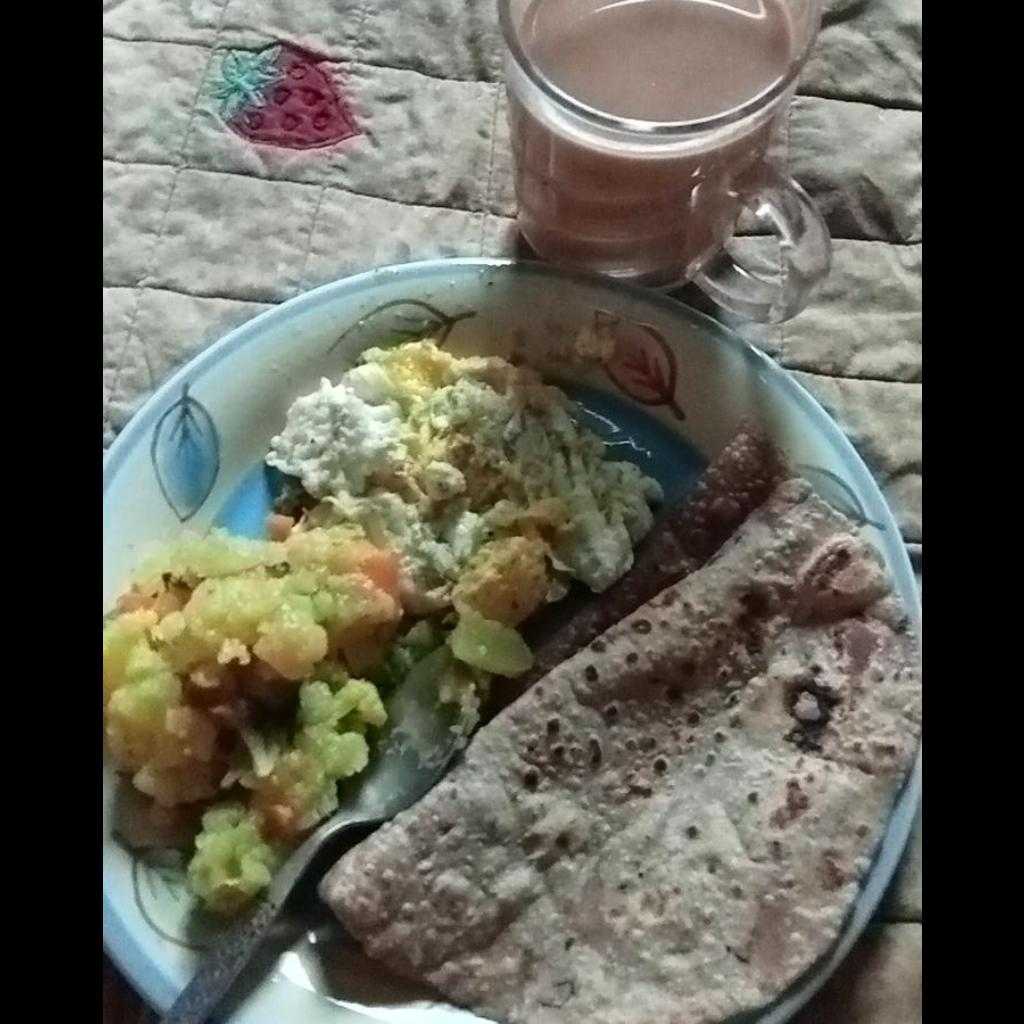cha: (526, 1, 790, 120)
egg-poached: (267, 340, 663, 588)
ruti: (319, 420, 916, 1023)
vegetable: (106, 518, 554, 911)
